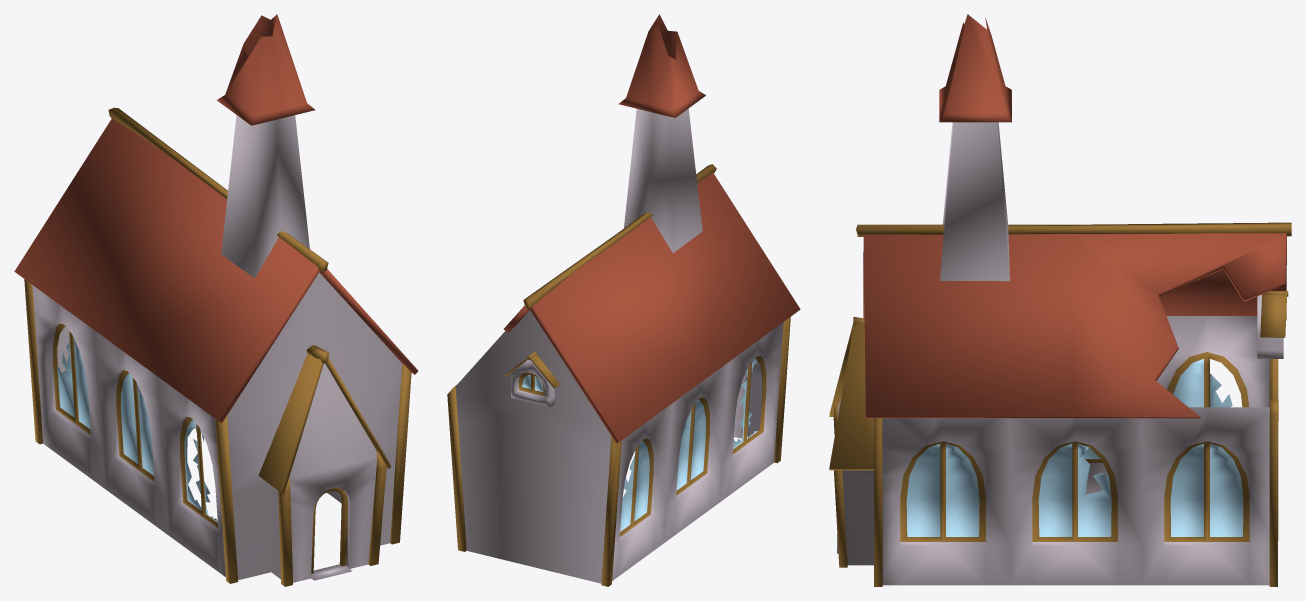
File: church_ab.fbx
3 views of the same model, side by side, from view 1: azimuth 30°, elevation 25°; view 2: azimuth 150°, elevation 25°; view 3: azimuth 270°, elevation 25° (orthographic). The views are drawn at different scales.
Visible parts, largest first — view 1: church.abandoned; view 2: church.abandoned; view 3: church.abandoned.
Part boxes in pixels (<box>): church.abandoned: <box>14,14,418,586</box>; church.abandoned: <box>447,14,800,586</box>; church.abandoned: <box>829,14,1291,586</box>.
Size of the model in its own units: 500 by 1220 by 958.
